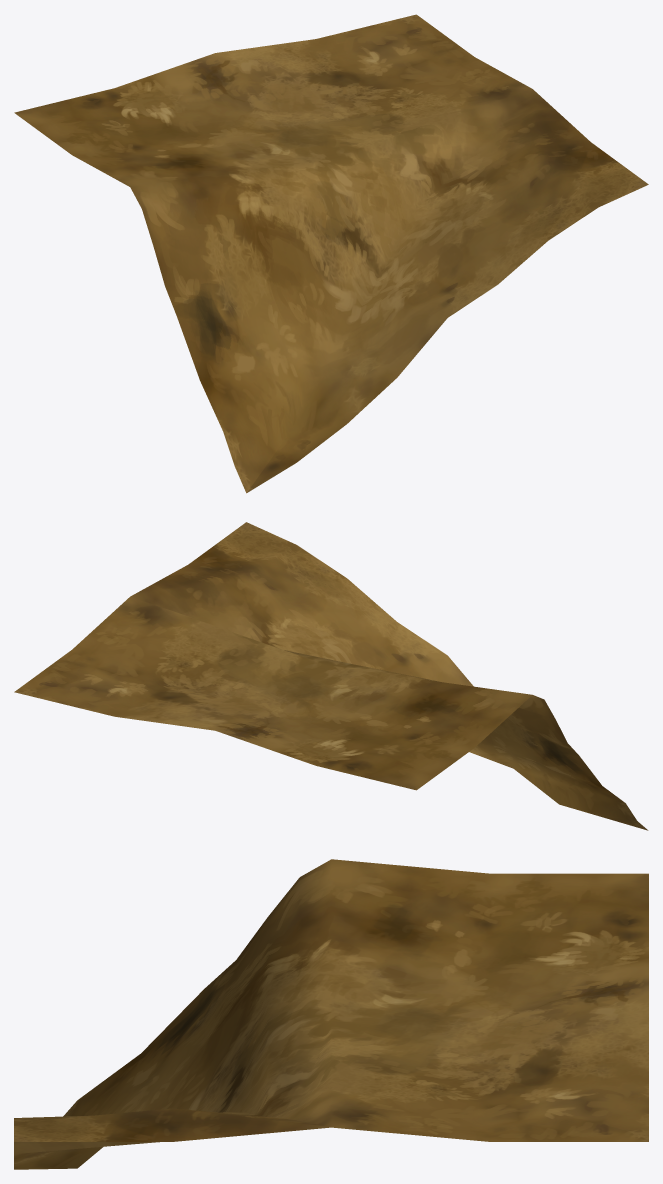
The model's file is Slope_Level_Incline_002.fbx.
3 renders of one model, top to bottom at view 1: azimuth 30°, elevation 25°; view 2: azimuth 150°, elevation 25°; view 3: azimuth 270°, elevation 25°, orthographic. The views are drawn at different scales.
Visible parts, largest first — view 1: Slope_Level_Incline_002; view 2: Slope_Level_Incline_002; view 3: Slope_Level_Incline_002.
Part boxes in pixels (x1=…): Slope_Level_Incline_002: x1=14, y1=14, x2=648, y2=493; Slope_Level_Incline_002: x1=14, y1=522, x2=648, y2=830; Slope_Level_Incline_002: x1=14, y1=859, x2=648, y2=1169.
Bounding box in the file's own units: 10 × 5.25 × 10.
1 material, 1 textured.
